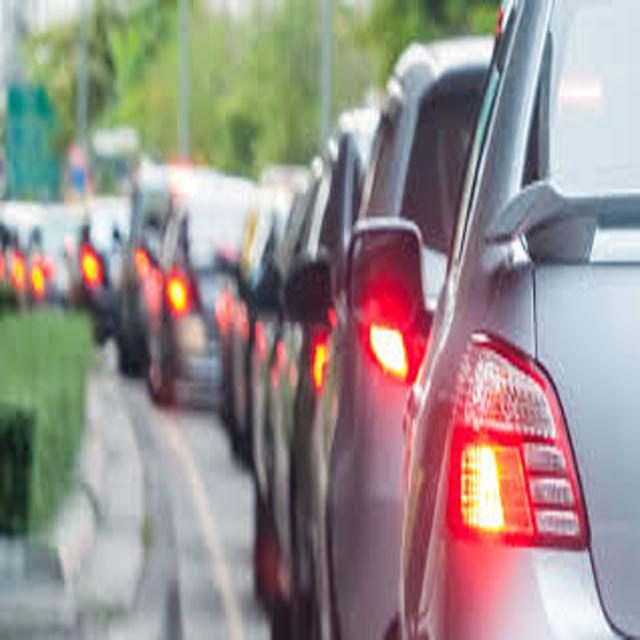car: (345, 1, 640, 640)
